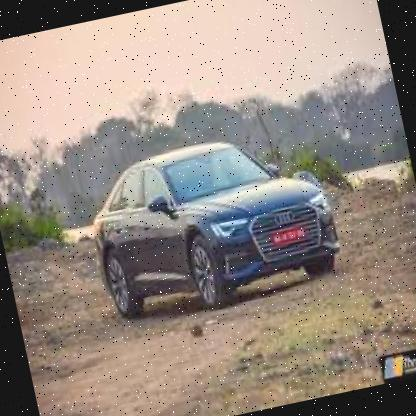car: (71, 110, 355, 338)
